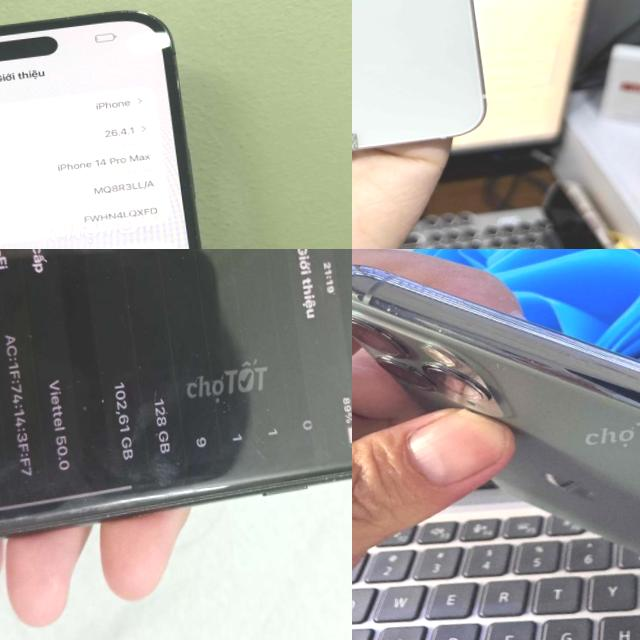gen_11: (352, 249, 640, 620)
gen_12_13: (352, 0, 495, 166)
gen_14: (0, 0, 252, 249)
gen_7_8: (0, 249, 352, 549)
scratch: (0, 486, 236, 530)
